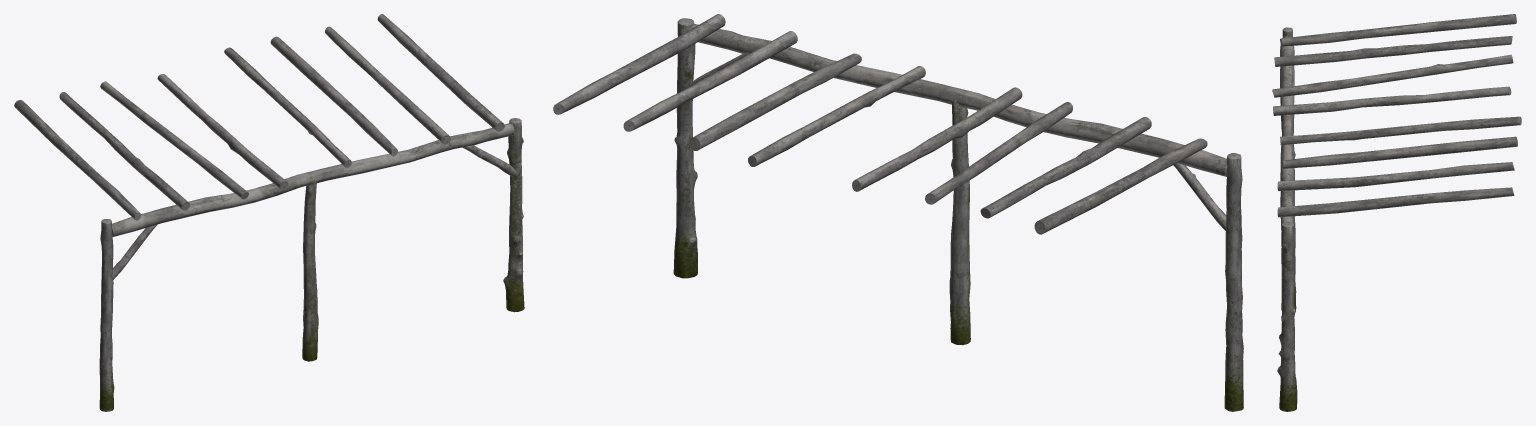
The model's file is SM_SupportModule_2.fbx.
3 renders of one model, left to right at view 1: azimuth 30°, elevation 25°; view 2: azimuth 150°, elevation 25°; view 3: azimuth 270°, elevation 25°, orthographic. The views are drawn at different scales.
Parts seen in each view (by area): view 1: SM_SupportModule_2_LOD0; view 2: SM_SupportModule_2_LOD0; view 3: SM_SupportModule_2_LOD0.
Part boxes in pixels (box(x1,y1,x2,y2)): SM_SupportModule_2_LOD0: box(14, 14, 524, 411); SM_SupportModule_2_LOD0: box(553, 14, 1243, 411); SM_SupportModule_2_LOD0: box(1272, 14, 1521, 411).
Bounding box in the file's own units: 622 × 324 × 305.
